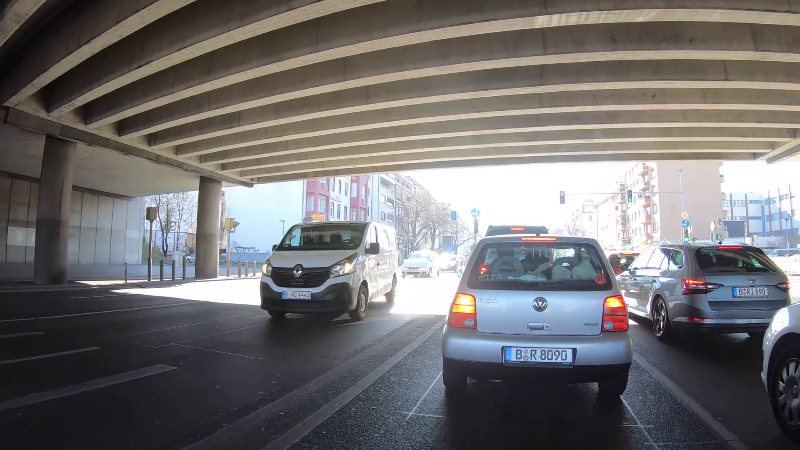Plate: (503, 344, 574, 366), (727, 285, 770, 299), (280, 289, 315, 301)
